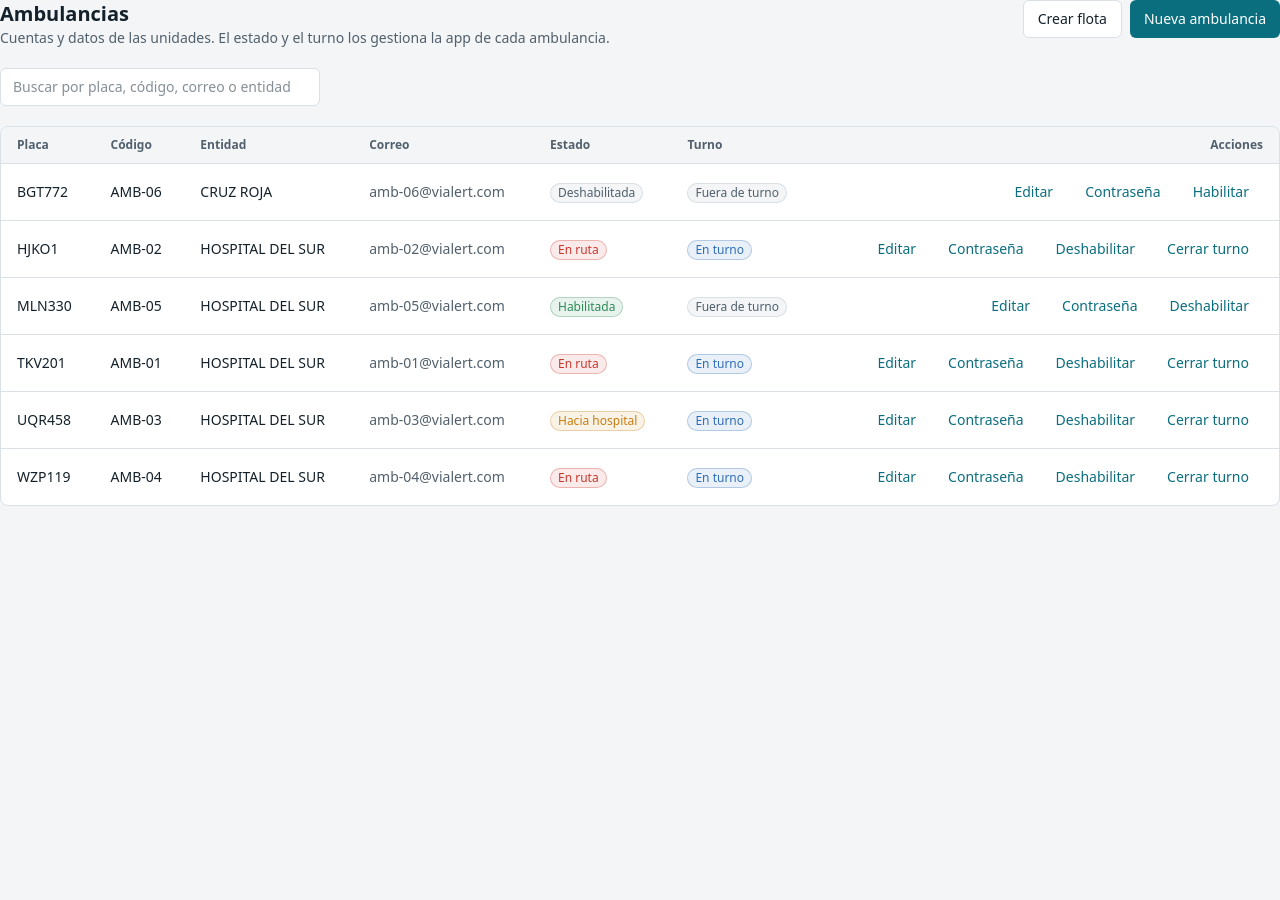
Test case: AmbulancesPage › cierra el turno colgado tras advertirlo y la unidad queda fuera de turno
Click the button with aria-label "Cerrar turno de WZP119". click: (1208, 477)
box: [1153,459,1263,495]
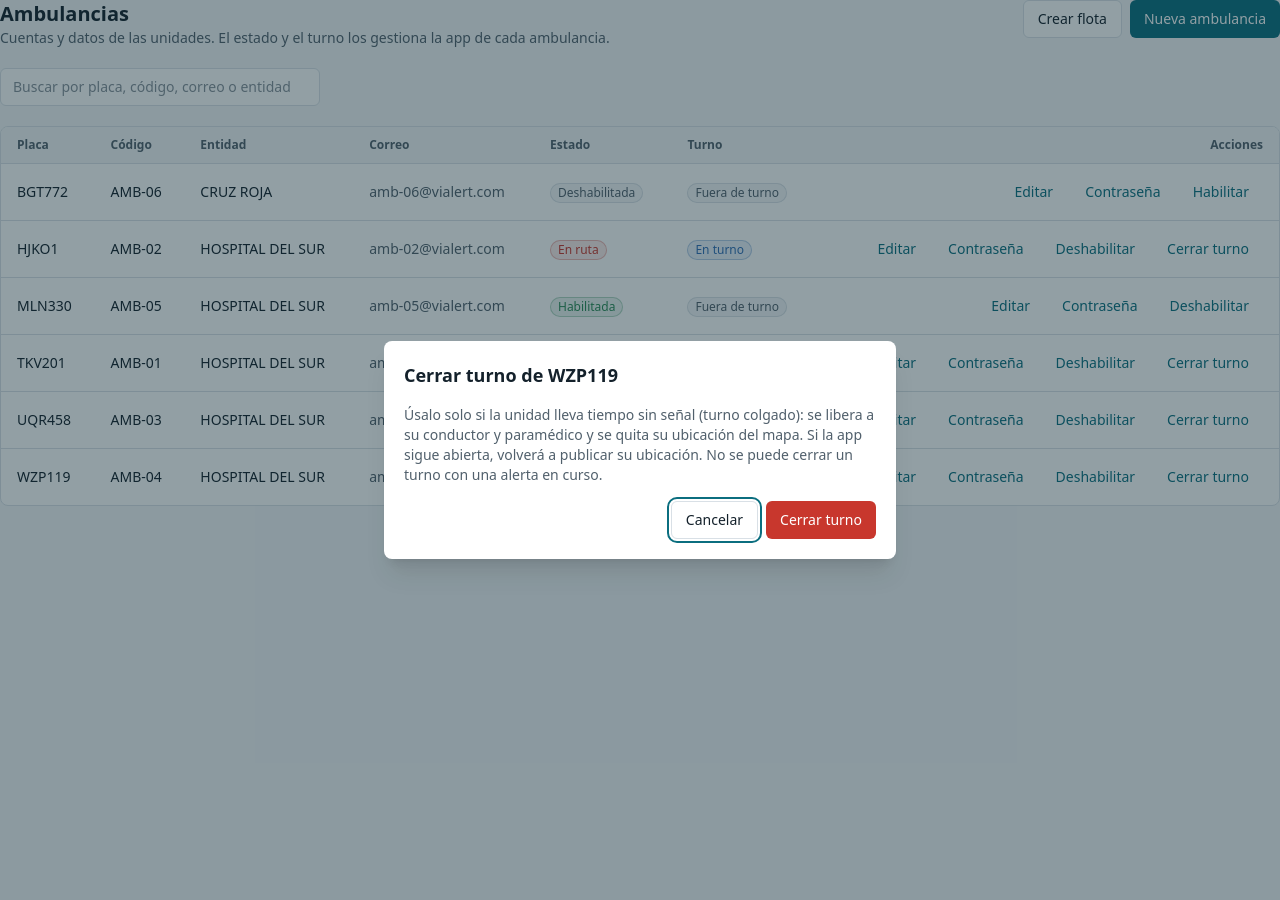
Expected: the text "solo si la unidad lleva tiempo sin señal" is shown, [404,405,874,484]
Click the button "Cerrar turno". click: (821, 520)
box: [766,501,876,539]
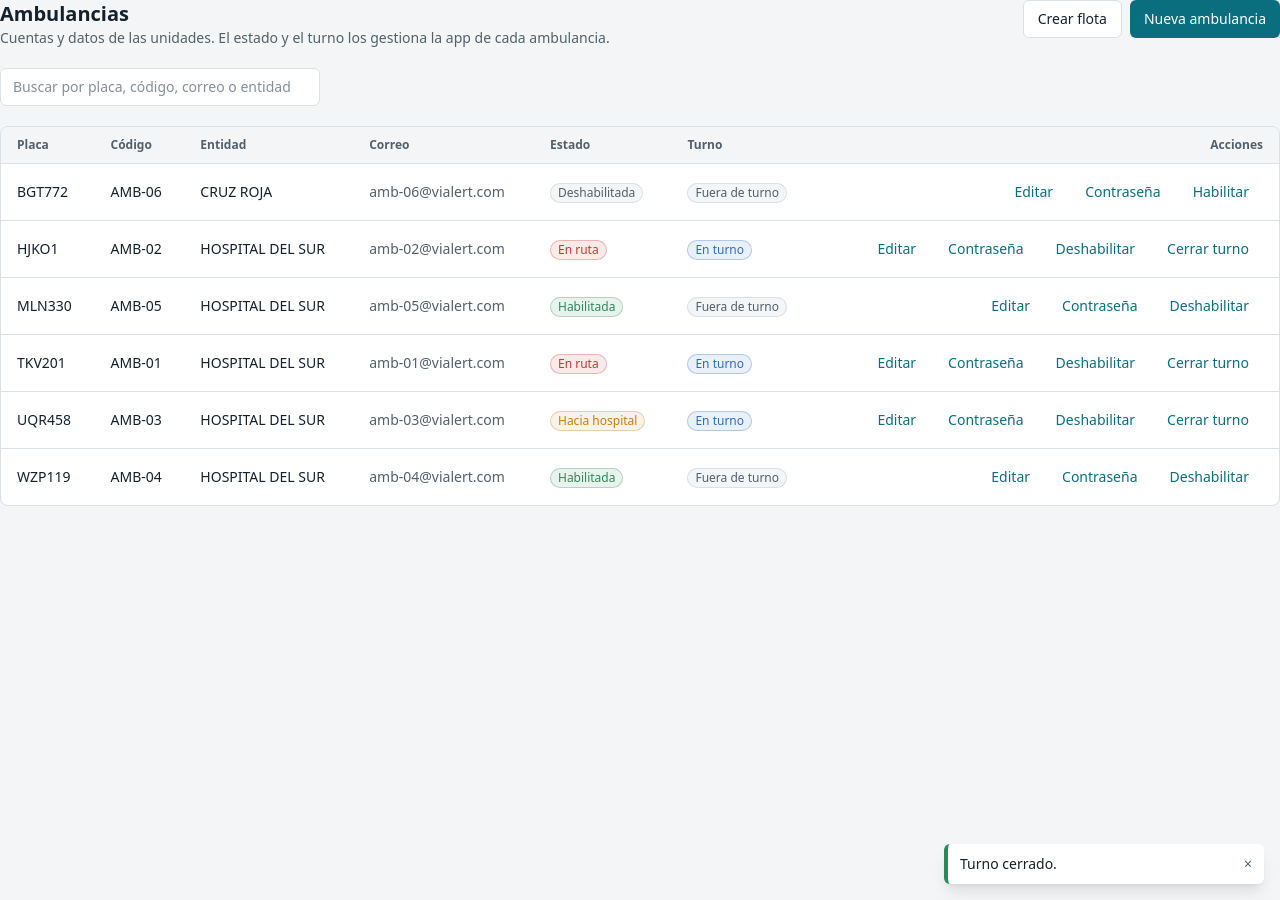
Expected: the text "Turno cerrado." is shown, [960,854,1057,874]
Expected: the text "Fuera de turno" in the row of "WZP119" is shown, [695,468,779,486]
Expected: the heading "Cerrar turno de WZP119" is gone
